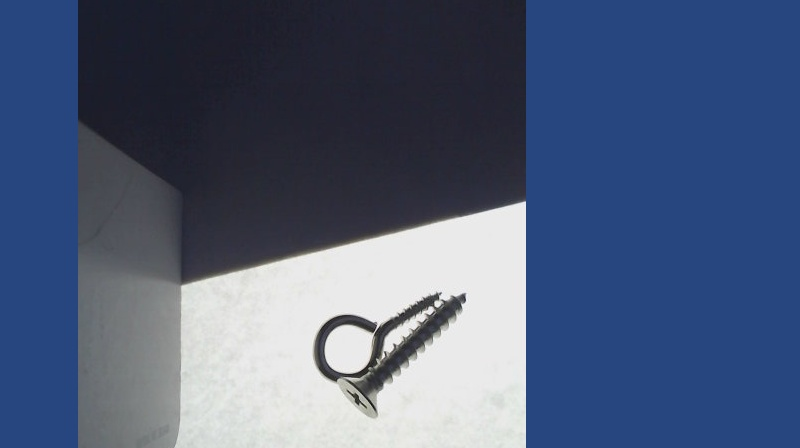O001: (310, 290, 442, 384)
S001: (336, 292, 465, 420)
